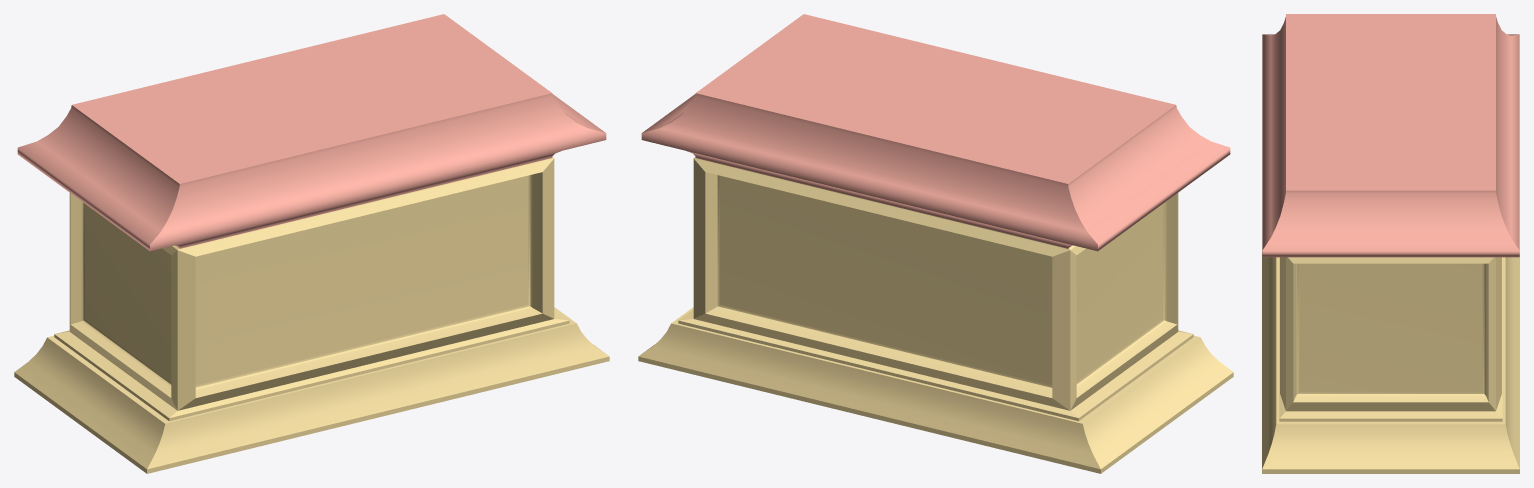
Rendered from Chest.fbx.
3 renders of one model, left to right at view 1: azimuth 30°, elevation 25°; view 2: azimuth 150°, elevation 25°; view 3: azimuth 270°, elevation 25°, orthographic. The views are drawn at different scales.
Parts seen in each view (by area): view 1: Box, Top; view 2: Box, Top; view 3: Top, Box.
Part boxes in pixels (left/top/right/bottom): Box: left=14, top=157, right=609, bottom=473; Top: left=17, top=14, right=606, bottom=251; Box: left=638, top=157, right=1233, bottom=473; Top: left=641, top=14, right=1230, bottom=251; Top: left=1262, top=14, right=1519, bottom=257; Box: left=1262, top=250, right=1519, bottom=473.
Size of the model in its own units: 4.96 by 2.76 by 2.46.
